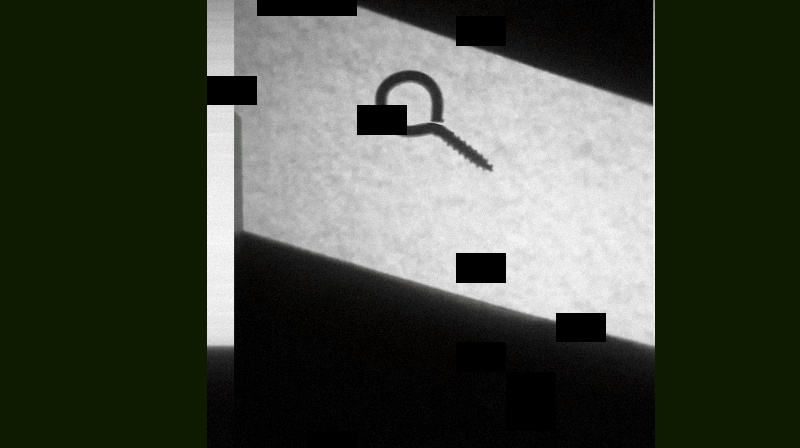O001: (370, 64, 496, 172)
